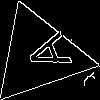A: (14, 30, 72, 78)
